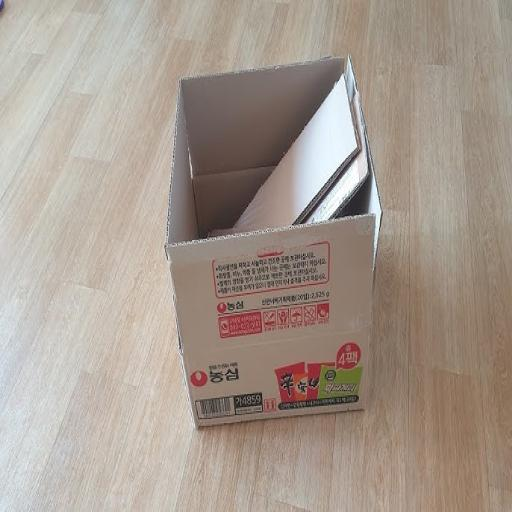paper: (164, 56, 381, 427)
